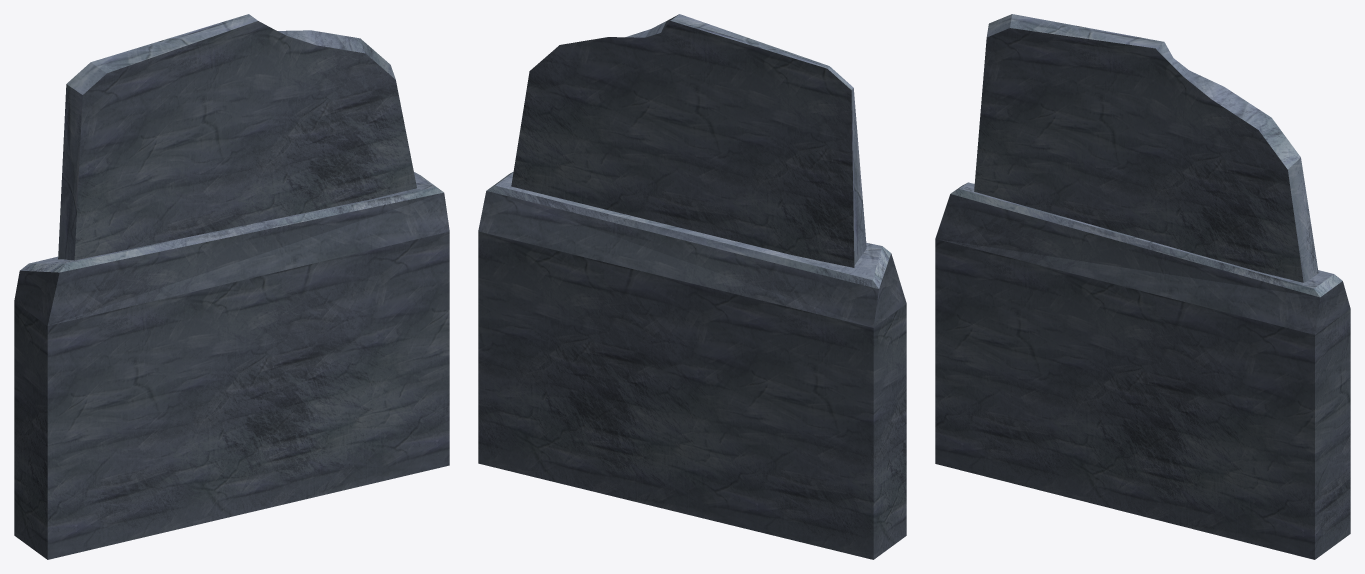
File: s0_Str_Ruins_09_Art_01.glb
The picture shows the model from 3 angles, left to right: view 1: azimuth 30°, elevation 25°; view 2: azimuth 150°, elevation 25°; view 3: azimuth 330°, elevation 25°; orthographic projection. The views are drawn at different scales.
Parts seen in each view (by area): view 1: node_Str_Ruins_09_Art; view 2: node_Str_Ruins_09_Art; view 3: node_Str_Ruins_09_Art.
Part boxes in pixels (x1,y1,x2,y2): node_Str_Ruins_09_Art: [14, 14, 449, 559]; node_Str_Ruins_09_Art: [478, 14, 906, 559]; node_Str_Ruins_09_Art: [935, 14, 1350, 559].
Bounding box in the file's own units: 7.13 × 8.19 × 1.15.
Materials: 2 (2 with a texture image).
